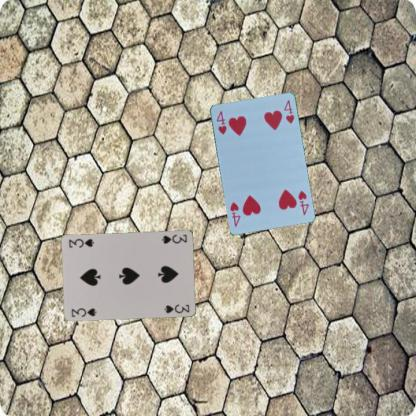3s: (160, 232, 188, 244), (70, 306, 98, 317)
4h: (213, 108, 228, 136), (295, 188, 310, 216)
